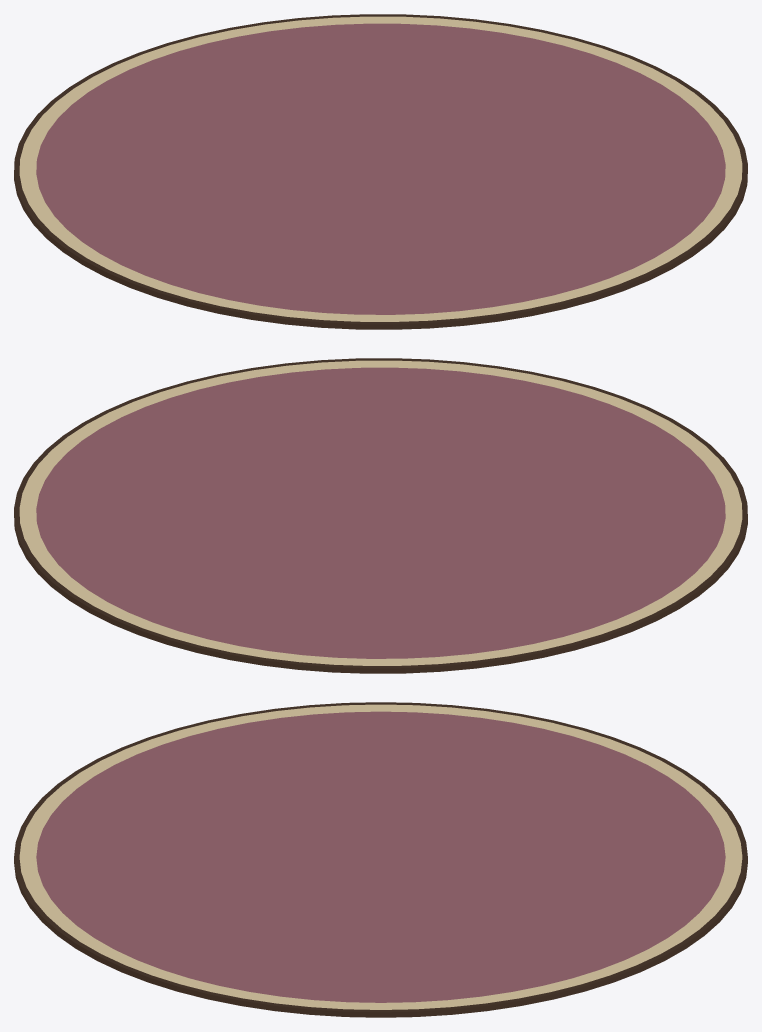
The model's file is library-round-rug.glb.
3 renders of one model, top to bottom at view 1: azimuth 30°, elevation 25°; view 2: azimuth 150°, elevation 25°; view 3: azimuth 270°, elevation 25°, orthographic.
Parts seen in each view (by area): view 1: library-round-rug; view 2: library-round-rug; view 3: library-round-rug.
Part boxes in pixels (left/top/right/bottom): library-round-rug: left=14, top=14, right=747, bottom=329; library-round-rug: left=14, top=358, right=747, bottom=673; library-round-rug: left=14, top=702, right=747, bottom=1017.
Bounding box in the file's own units: 2.4 × 0.0196 × 2.4.
